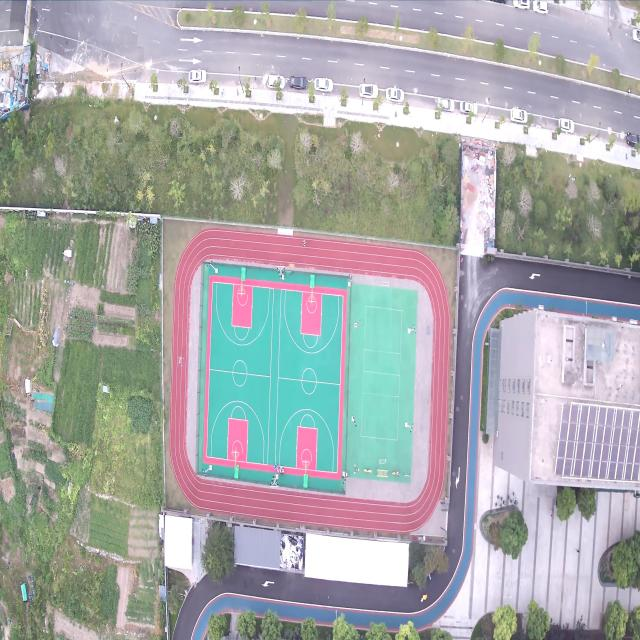drone: (176, 354, 184, 366)
